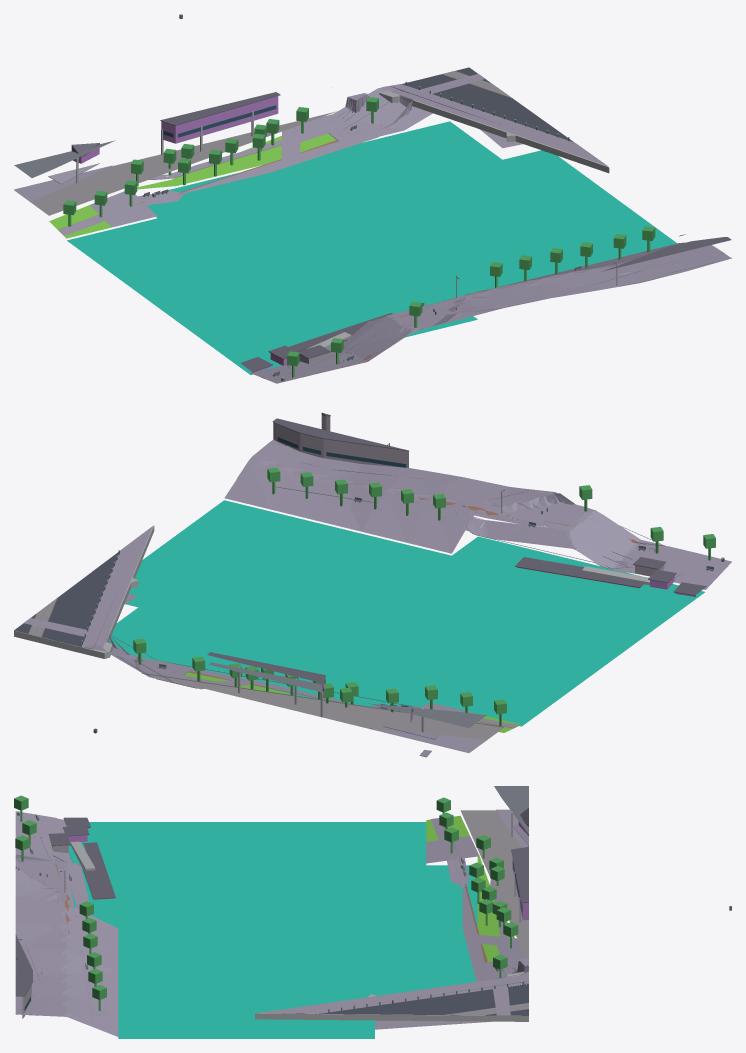
3 views of the same model, one above another, from view 1: azimuth 30°, elevation 25°; view 2: azimuth 150°, elevation 25°; view 3: azimuth 270°, elevation 25° (orthographic). The views are drawn at different scales.
Parts seen in each view (by area): view 1: compiled-chunk; view 2: compiled-chunk; view 3: compiled-chunk.
Part boxes in pixels (x1=…): compiled-chunk: x1=14, y1=14, x2=731, y2=383; compiled-chunk: x1=14, y1=412, x2=731, y2=757; compiled-chunk: x1=14, y1=786, x2=731, y2=1038.
Bounding box in the file's own units: 120 × 16.67 × 168.
